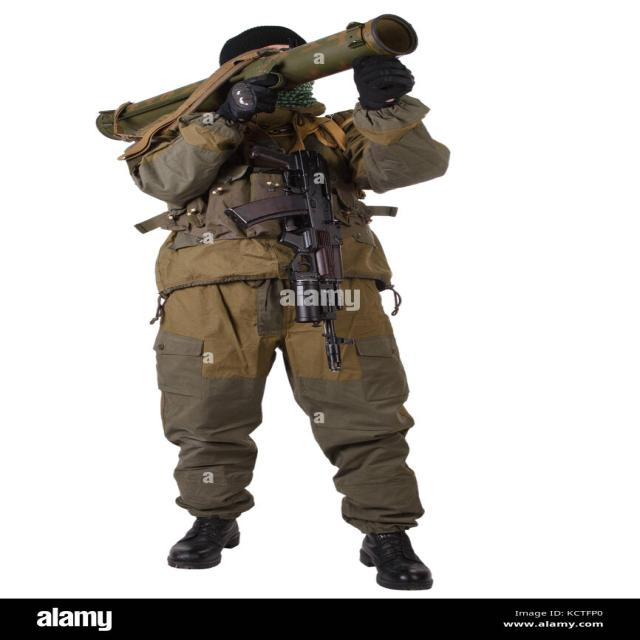bazooka: (70, 9, 425, 128)
